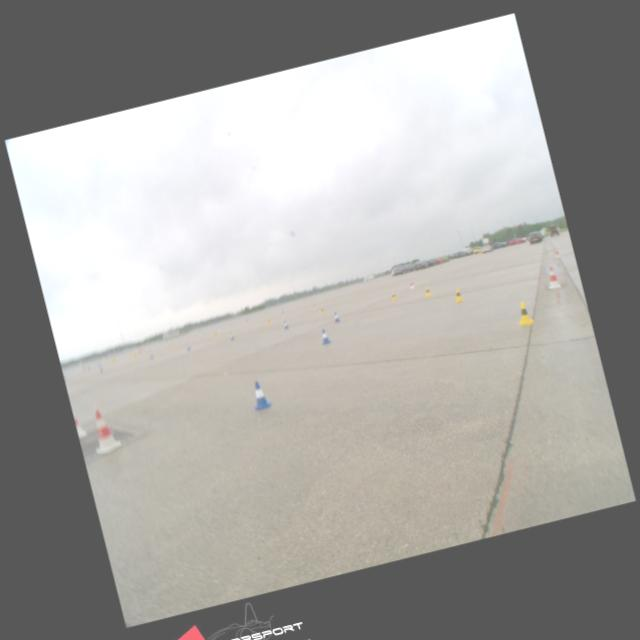blue_cone: (248, 379, 271, 410), (319, 328, 331, 344), (332, 310, 339, 322), (282, 319, 289, 329)
yellow_cone: (514, 300, 534, 326), (452, 288, 463, 302), (422, 286, 432, 296), (391, 291, 396, 300), (320, 306, 324, 314)
